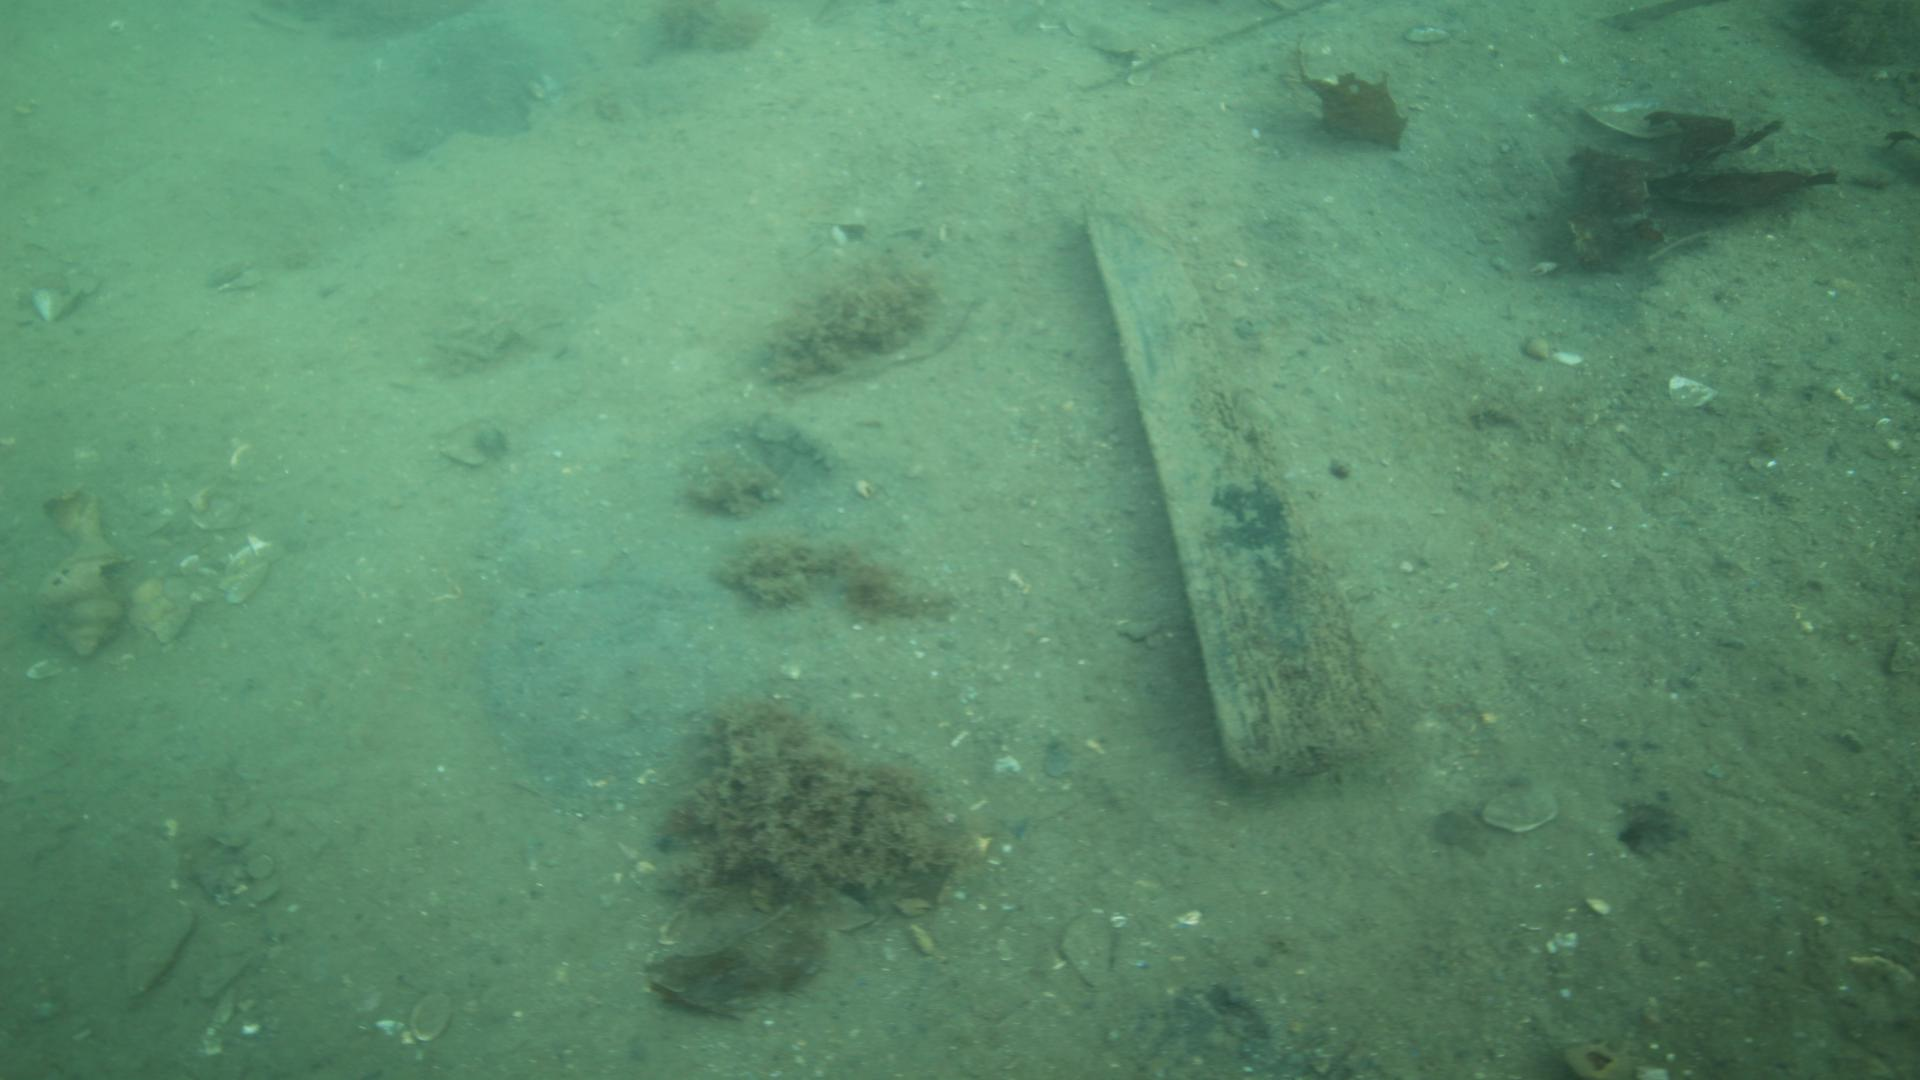wood: (1077, 196, 1400, 791)
